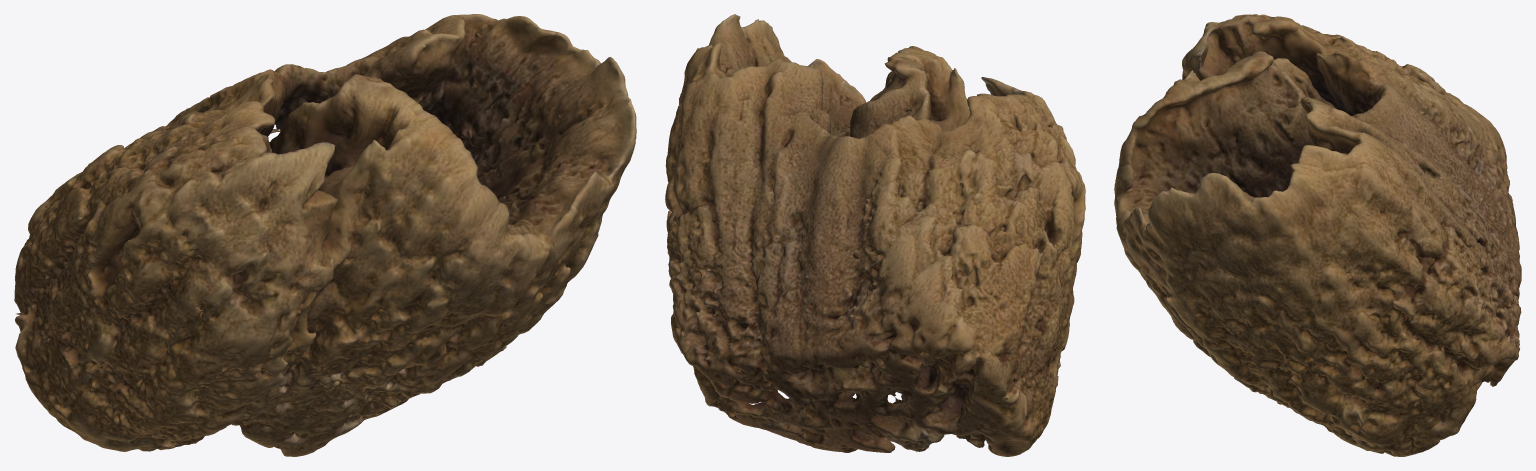
3 renders of one model, left to right at view 1: azimuth 30°, elevation 25°; view 2: azimuth 150°, elevation 25°; view 3: azimuth 270°, elevation 25°, orthographic. The views are drawn at different scales.
Parts seen in each view (by area): view 1: orientacao; view 2: orientacao; view 3: orientacao.
Part boxes in pixels (bbox=[...]): orientacao: bbox=[14, 14, 636, 456]; orientacao: bbox=[665, 14, 1085, 456]; orientacao: bbox=[1114, 14, 1521, 456].
Bounding box in the file's own units: 8079 × 6517 × 6373.
1 material, 1 textured.
